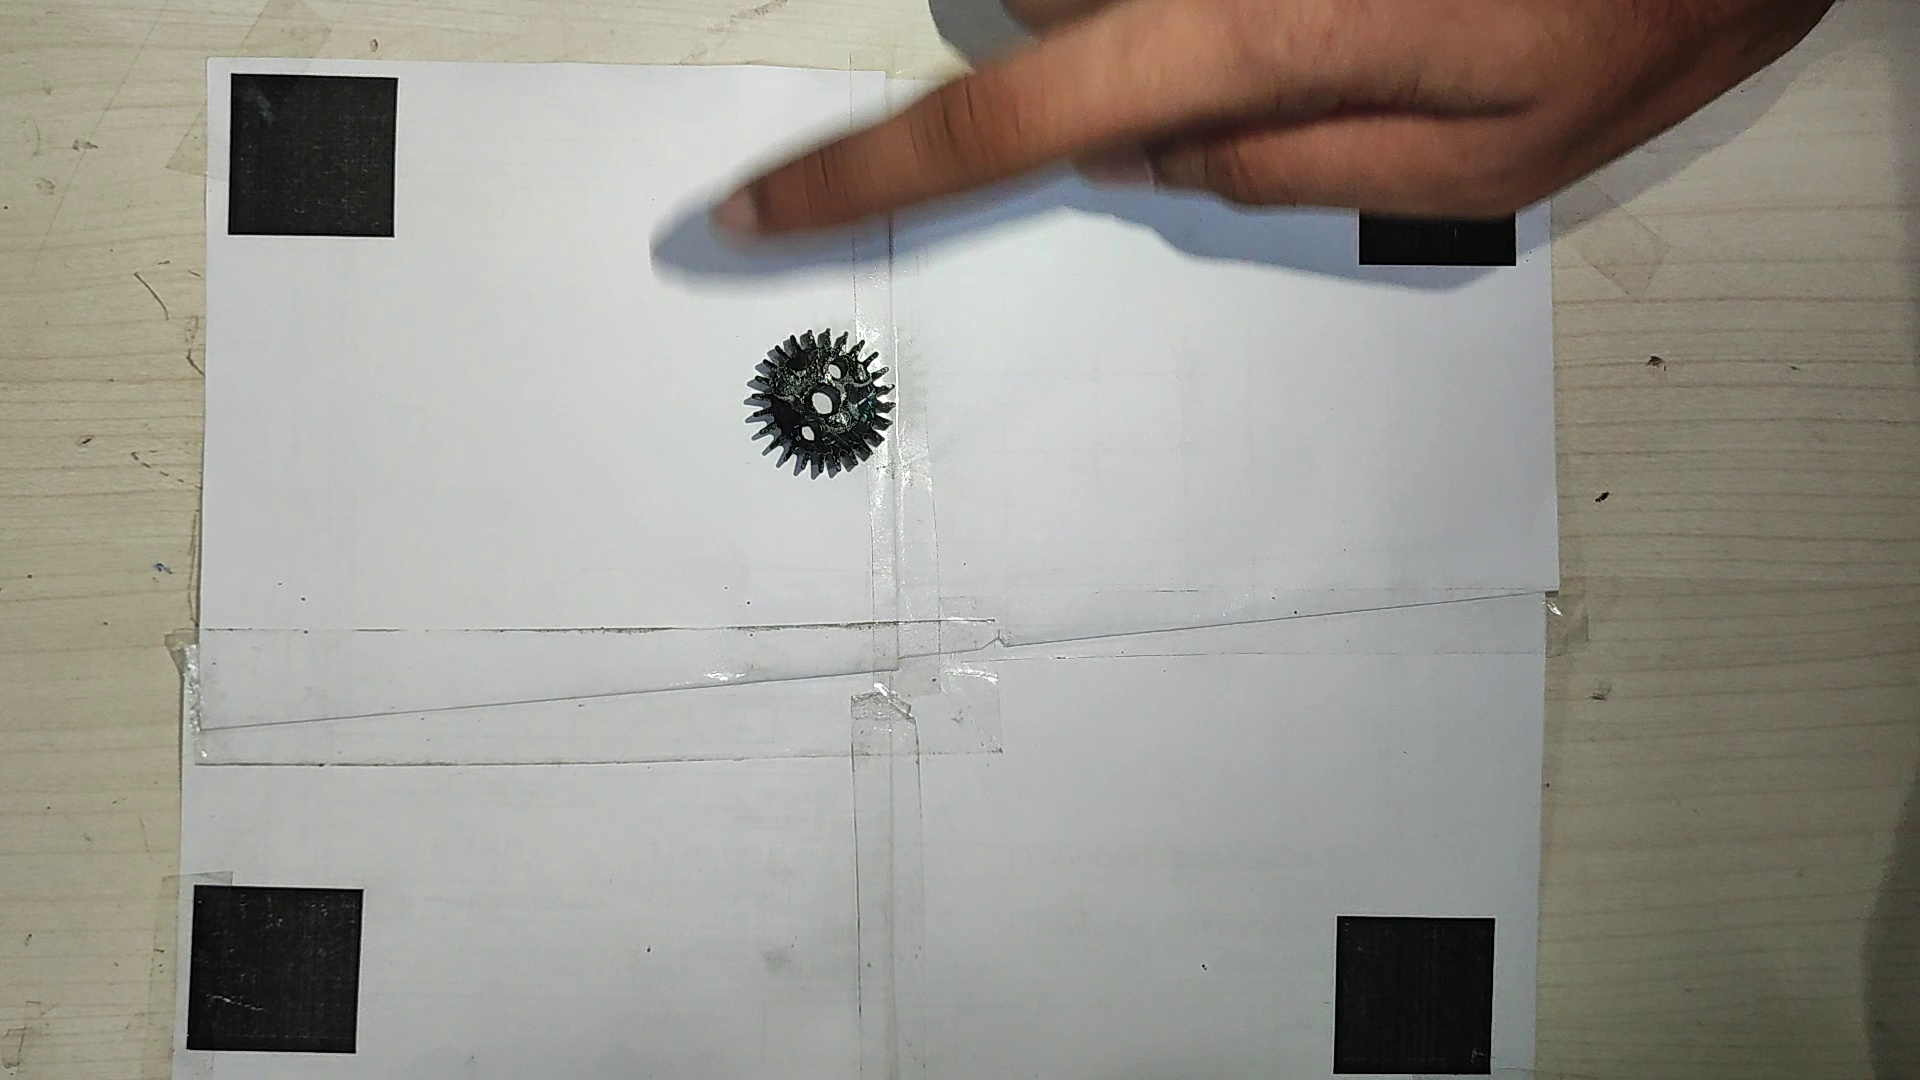Gear: (740, 324, 901, 480)
